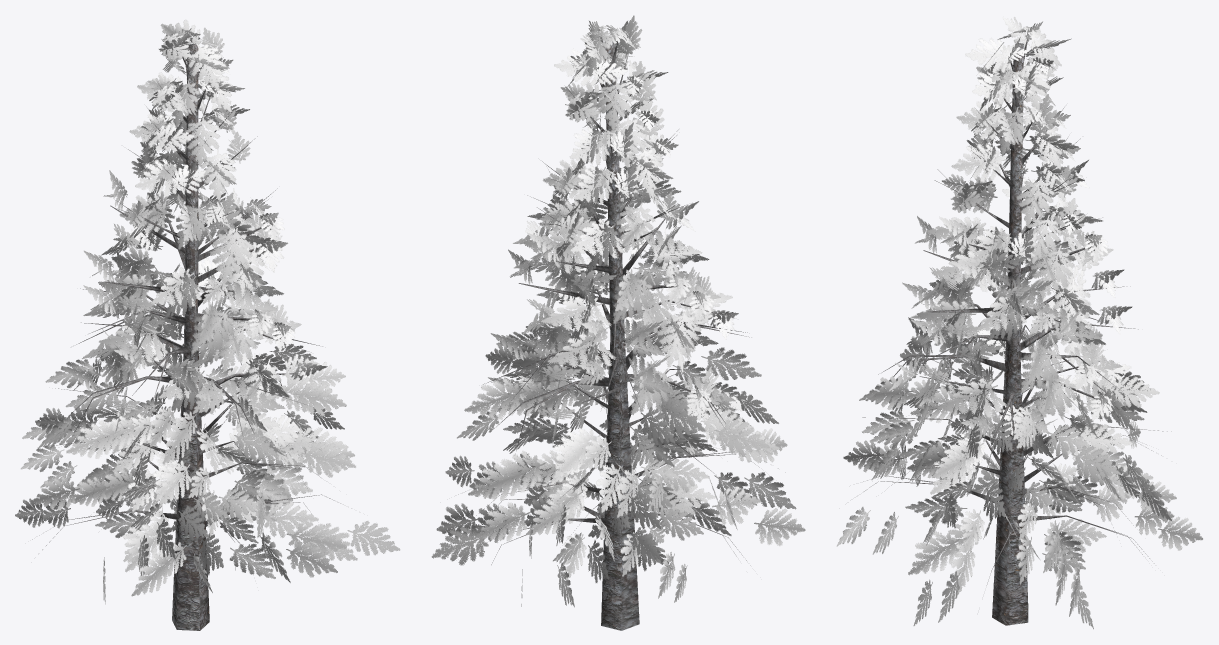
Rendered from Spruce_LOD0_v03.fbx.
The picture shows the model from 3 angles, left to right: view 1: azimuth 30°, elevation 25°; view 2: azimuth 150°, elevation 25°; view 3: azimuth 270°, elevation 25°; orthographic projection.
Parts seen in each view (by area): view 1: leafcard_spruce_01_1, white-spruce-tree-bark-albedo_0; view 2: leafcard_spruce_01_1, white-spruce-tree-bark-albedo_0; view 3: leafcard_spruce_01_1, white-spruce-tree-bark-albedo_0.
Part boxes in pixels (<box>): leafcard_spruce_01_1: <box>15,19,400,604</box>; white-spruce-tree-bark-albedo_0: <box>32,43,351,630</box>; leafcard_spruce_01_1: <box>431,15,805,607</box>; white-spruce-tree-bark-albedo_0: <box>458,36,785,630</box>; leafcard_spruce_01_1: <box>836,17,1202,629</box>; white-spruce-tree-bark-albedo_0: <box>862,34,1171,625</box>.
Size of the model in its own units: 519 by 934 by 523.
